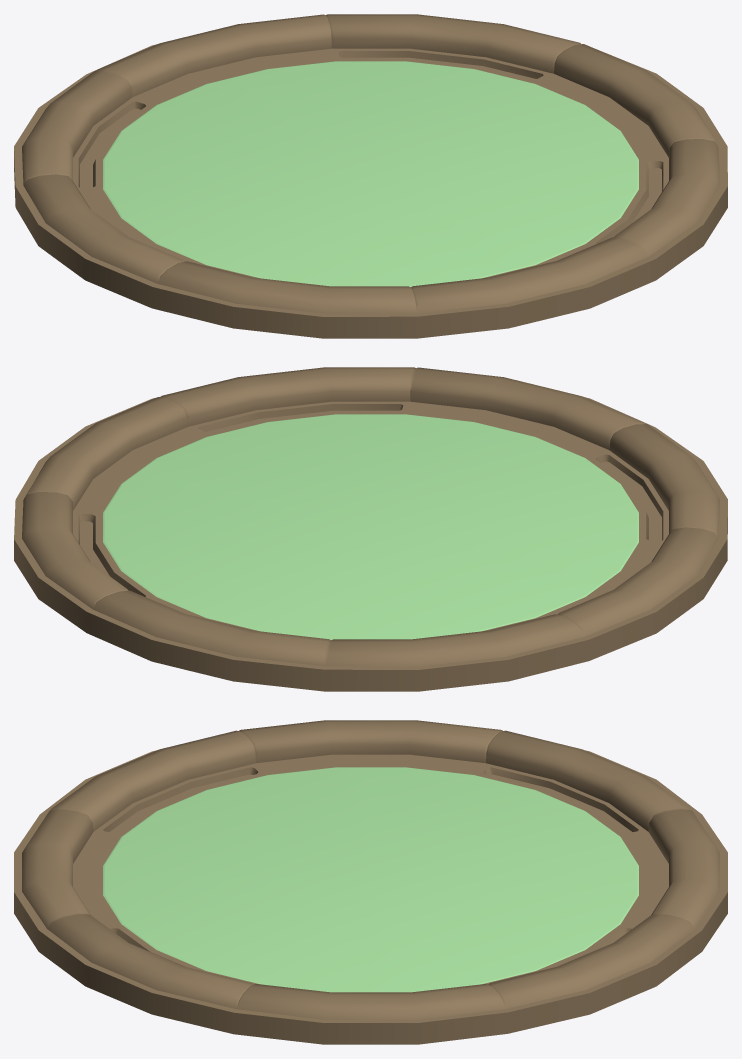
Rendered from SM_RoundTable_padded.fbx.
3 renders of one model, top to bottom at view 1: azimuth 30°, elevation 25°; view 2: azimuth 150°, elevation 25°; view 3: azimuth 270°, elevation 25°, orthographic.
Visible parts, largest first — view 1: PaddedTable; view 2: PaddedTable; view 3: PaddedTable.
Boxes of the visible parts, left/top/right/bottom form: PaddedTable: left=14, top=14, right=727, bottom=338; PaddedTable: left=14, top=367, right=727, bottom=691; PaddedTable: left=14, top=720, right=727, bottom=1044.
Size of the model in its own units: 212 by 10.38 by 212.
